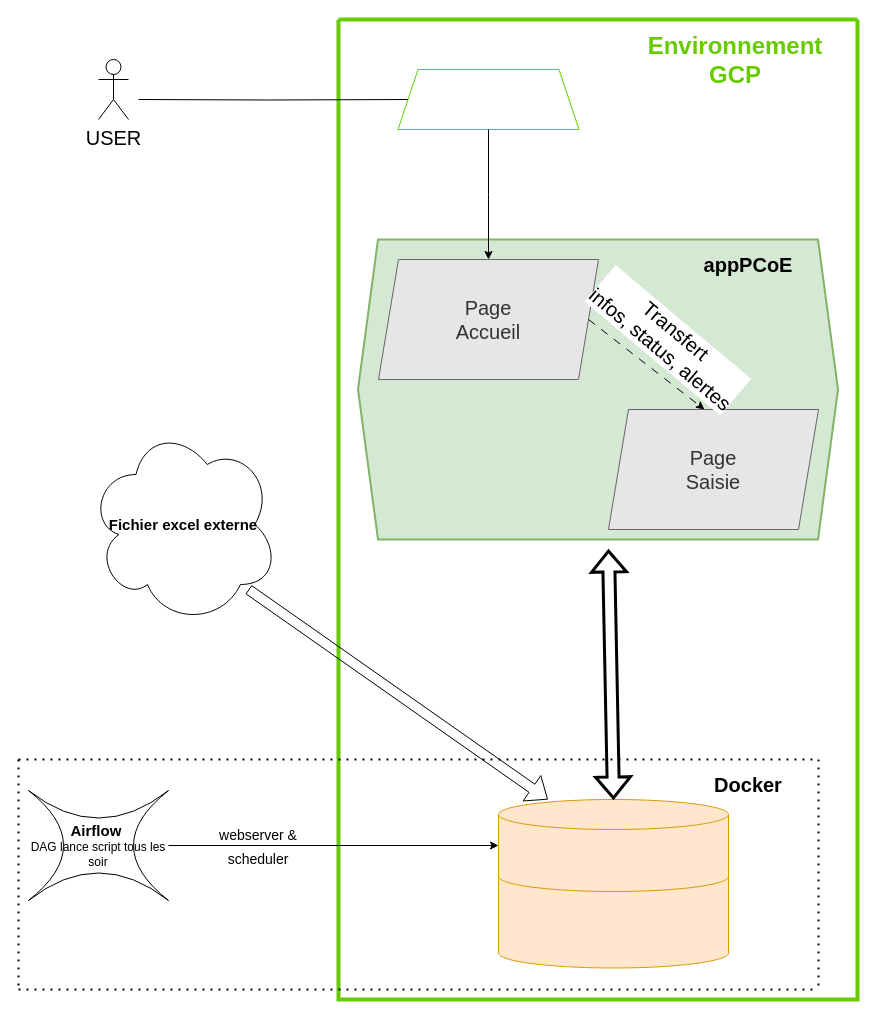
Image size: 876x1018. Some labels were removed from this diagram. Each missing label, with the centre of its shape:
BDD postegreSQL: (613,845)
Portail Identification: (488,99)
Tables Stockage des données appPCoE: (613,913)
